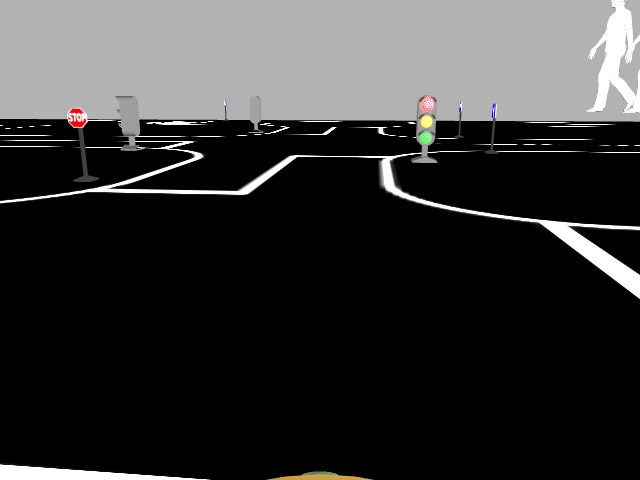Stop: (66, 107, 85, 128)
TrafficLight: (413, 93, 439, 145)
